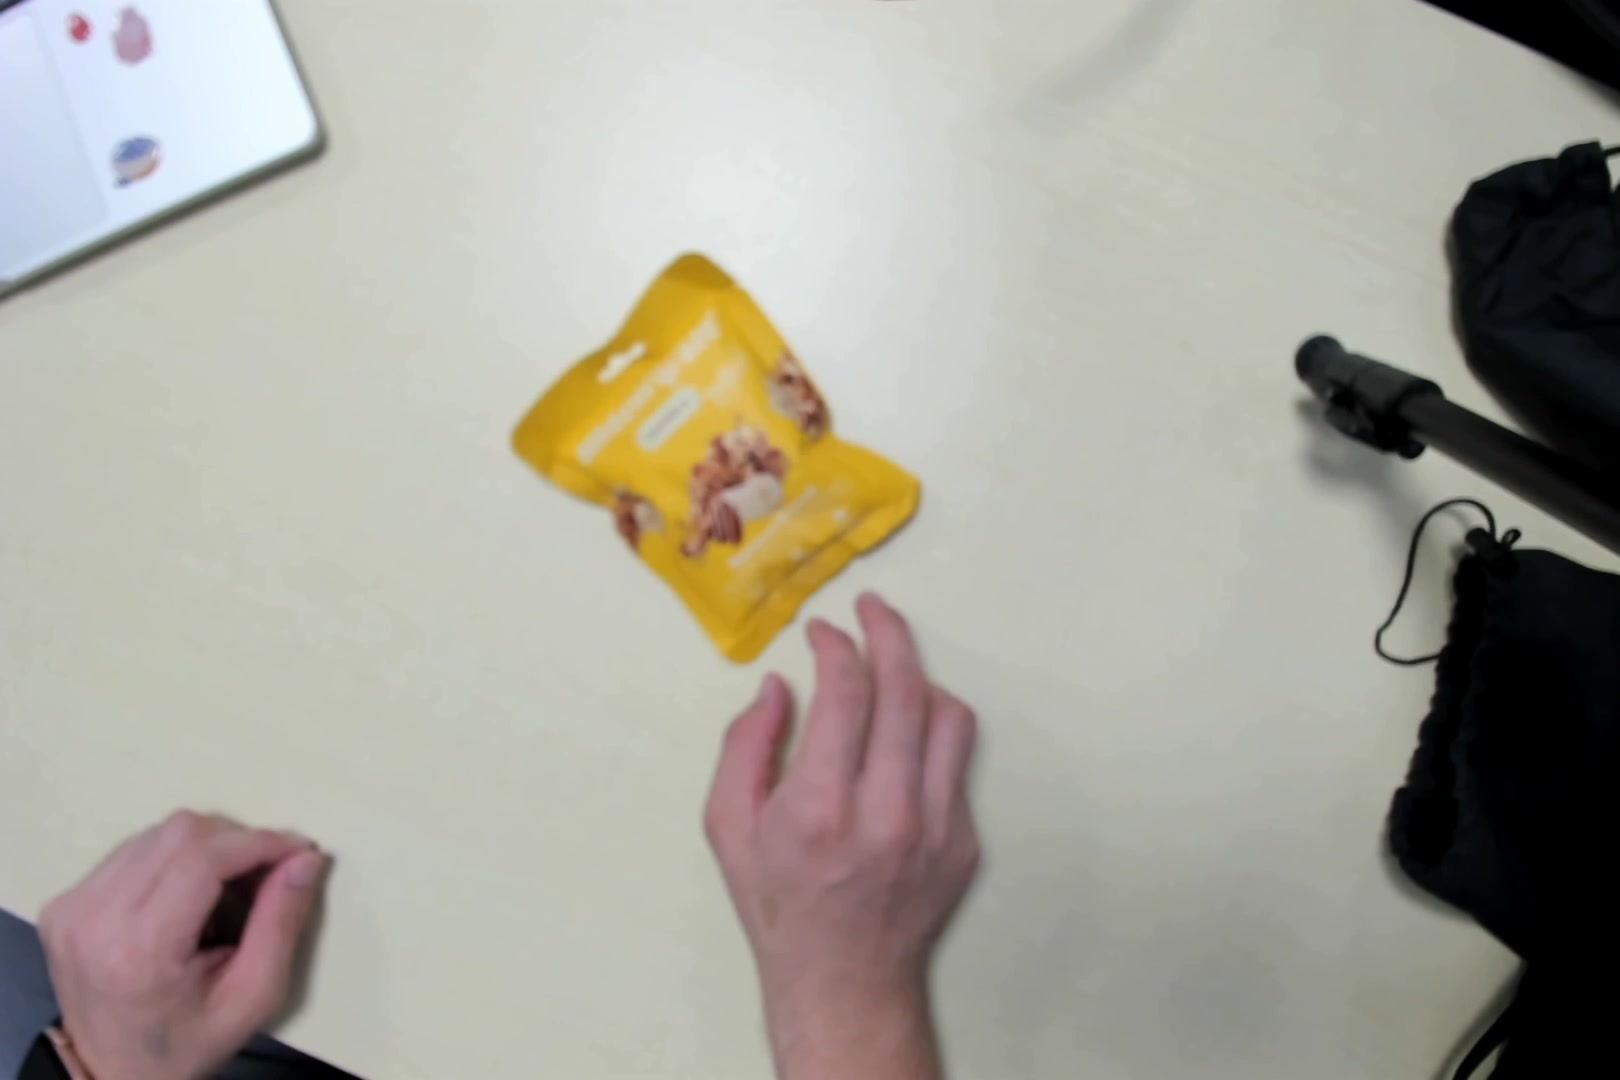BreakfastCereals_0-99g_NonHalal_NonHealthy: (538, 253, 912, 615)
